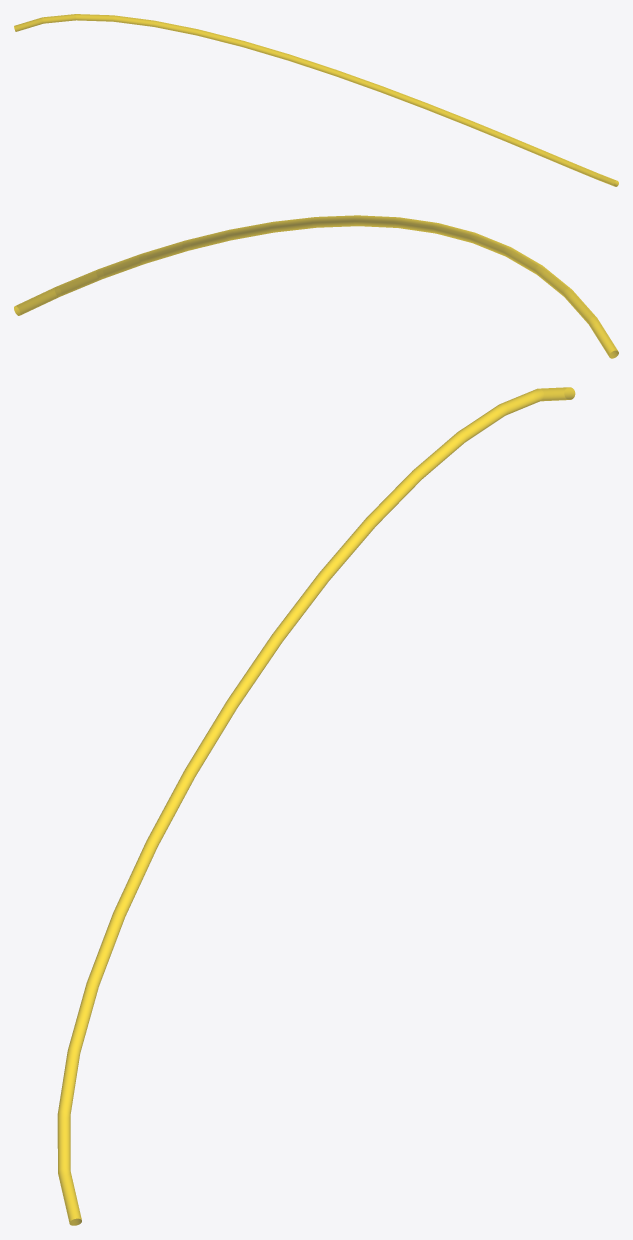
The model's file is Event_84804159_track_37.fbx.
3 renders of one model, top to bottom at view 1: azimuth 30°, elevation 25°; view 2: azimuth 150°, elevation 25°; view 3: azimuth 270°, elevation 25°, orthographic. The views are drawn at different scales.
Parts seen in each view (by area): view 1: Model; view 2: Model; view 3: Model.
Part boxes in pixels (x1,y1,x2,y2): Model: (14,14,618,186); Model: (14,215,618,358); Model: (57,387,575,1225).
Size of the model in its own units: 3.44 by 1.37 by 1.6.
